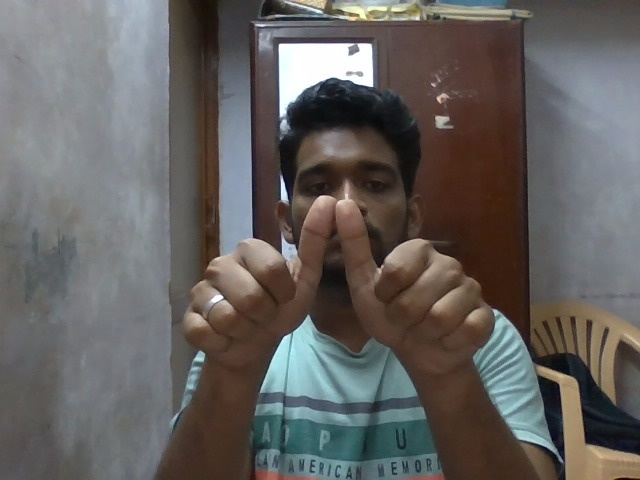A: (175, 191, 504, 385)
